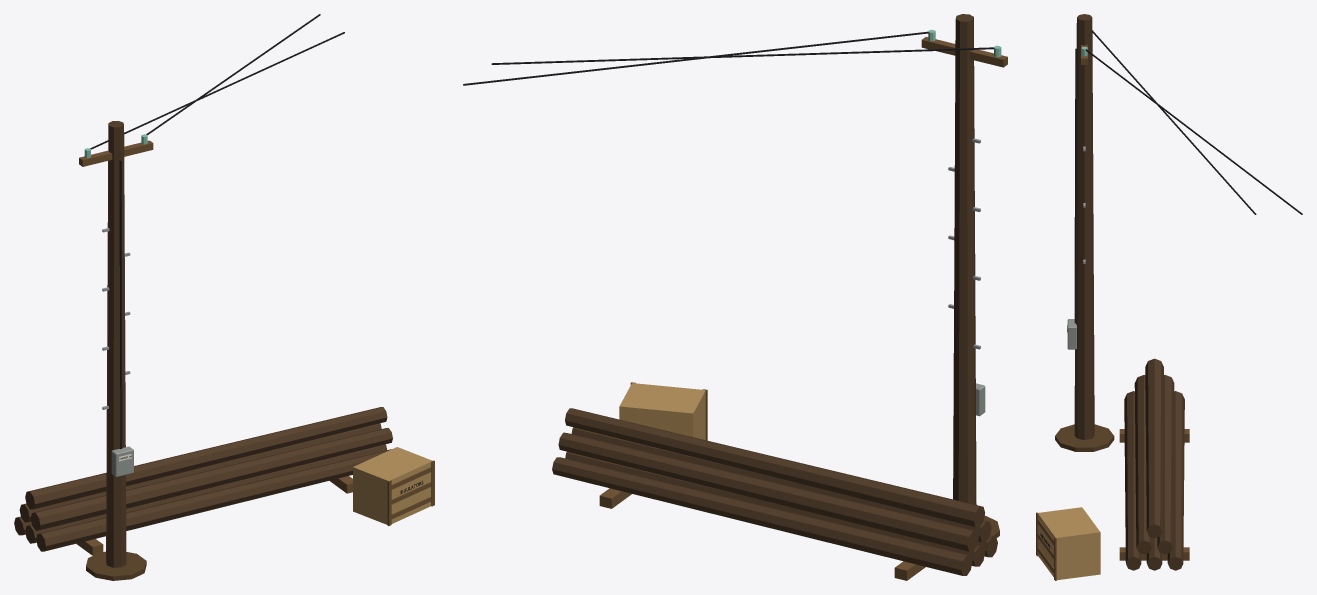
File: site.pole-stack.glb
3 renders of one model, left to right at view 1: azimuth 30°, elevation 25°; view 2: azimuth 150°, elevation 25°; view 3: azimuth 270°, elevation 25°, orthographic. The views are drawn at different scales.
Visible parts, largest first — view 1: standing-pole, pole3, pole5, pole0, crate-body, pole1, pole4, tamped, drop-up, crossarm, wire-1, terminal; view 2: standing-pole, pole4, pole5, pole2, crate-body, pole3, pole1, wire-1, wire1, crossarm; view 3: standing-pole, crate-body, pole5, pole0, pole4, pole2, pole3, tamped, wire1, drop-up, wire-1, pole1.
Boxes of the visible parts, left/top/right/bottom form: standing-pole: left=106, top=121, right=126, bottom=567; pole3: left=30, top=428, right=392, bottom=530; pole5: left=25, top=407, right=387, bottom=509; pole0: left=36, top=449, right=391, bottom=551; crate-body: left=353, top=447, right=432, bottom=524; pole1: left=25, top=444, right=386, bottom=543; pole4: left=19, top=423, right=381, bottom=522; tamped: left=86, top=551, right=146, bottom=580; drop-up: left=119, top=160, right=122, bottom=448; crossarm: left=79, top=140, right=153, bottom=166; wire-1: left=90, top=32, right=344, bottom=149; terminal: left=111, top=446, right=133, bottom=476; standing-pole: left=953, top=14, right=976, bottom=504; pole4: left=558, top=432, right=978, bottom=551; pole5: left=565, top=408, right=984, bottom=527; pole2: left=552, top=457, right=972, bottom=575; crate-body: left=619, top=383, right=705, bottom=439; pole3: left=571, top=427, right=991, bottom=542; pole1: left=565, top=451, right=985, bottom=566; wire-1: left=491, top=47, right=993, bottom=64; wire1: left=463, top=31, right=928, bottom=85; crossarm: left=921, top=37, right=1007, bottom=67; standing-pole: left=1074, top=14, right=1094, bottom=439; crate-body: left=1038, top=507, right=1100, bottom=580; pole5: left=1145, top=358, right=1163, bottom=538; pole0: left=1124, top=391, right=1141, bottom=570; pole4: left=1157, top=375, right=1174, bottom=554; pole2: left=1167, top=391, right=1184, bottom=570; pole3: left=1134, top=375, right=1151, bottom=554; tamped: left=1055, top=424, right=1114, bottom=451; wire1: left=1085, top=49, right=1302, bottom=214; drop-up: left=1074, top=48, right=1076, bottom=323; wire-1: left=1092, top=30, right=1256, bottom=214; pole1: left=1146, top=537, right=1162, bottom=570.
Size of the model in its own units: 5.2 by 6 by 3.43.
